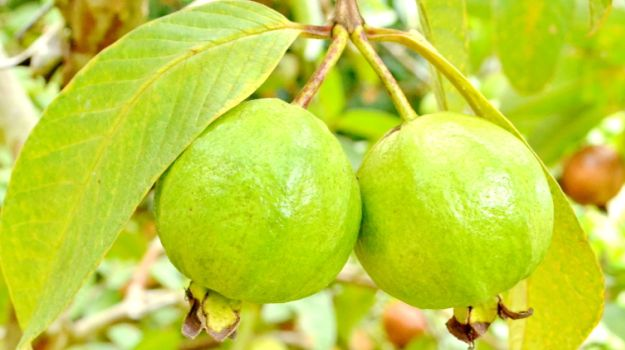guava: (334, 73, 558, 333), (131, 108, 362, 317)
